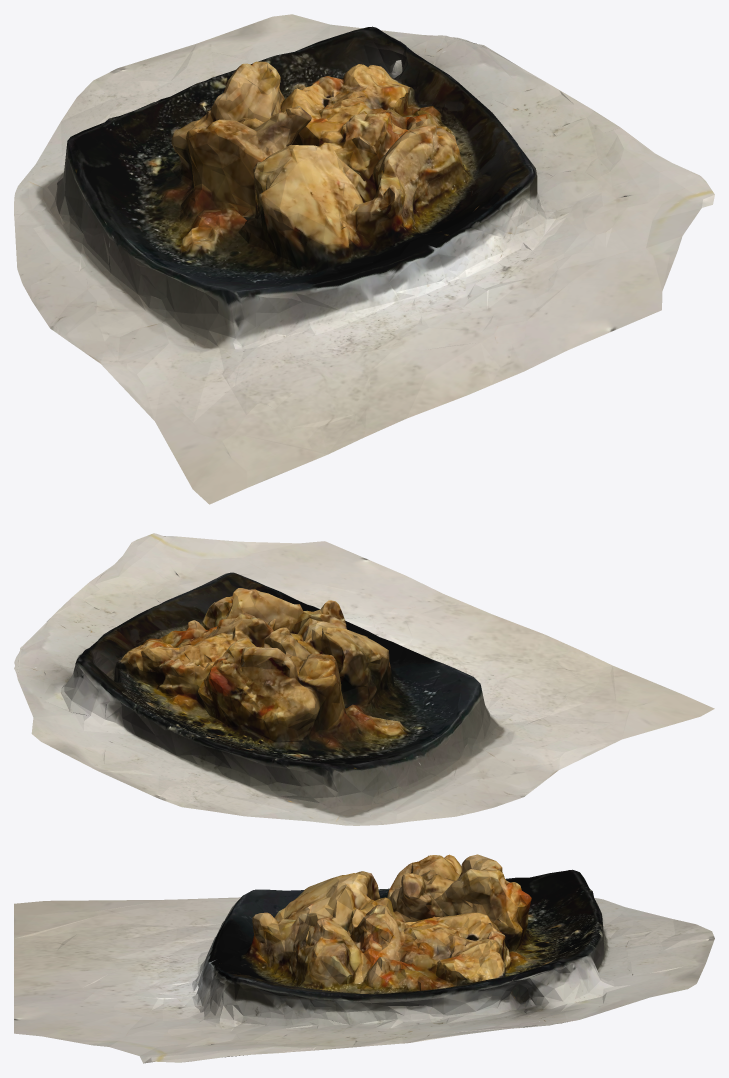
Rendered from frango.glb.
The picture shows the model from 3 angles, top to bottom: view 1: azimuth 30°, elevation 25°; view 2: azimuth 150°, elevation 25°; view 3: azimuth 270°, elevation 25°; orthographic projection. The views are drawn at different scales.
Parts seen in each view (by area): view 1: geometry_0; view 2: geometry_0; view 3: geometry_0.
Part boxes in pixels (bbox=[...]): geometry_0: bbox=[14, 14, 714, 504]; geometry_0: bbox=[14, 533, 714, 825]; geometry_0: bbox=[14, 854, 714, 1063].
Bounding box in the file's own units: 0.4184 × 0.1268 × 0.4582.
Materials: 1 (1 with a texture image).
